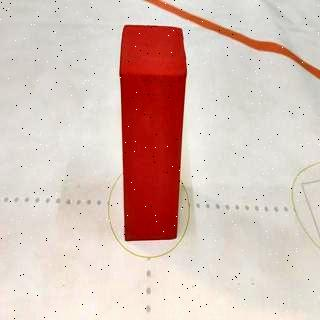redbox: (120, 24, 186, 242)
